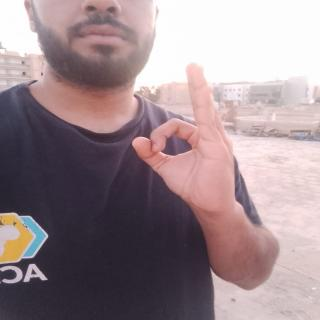Space: (130, 60, 246, 216)
